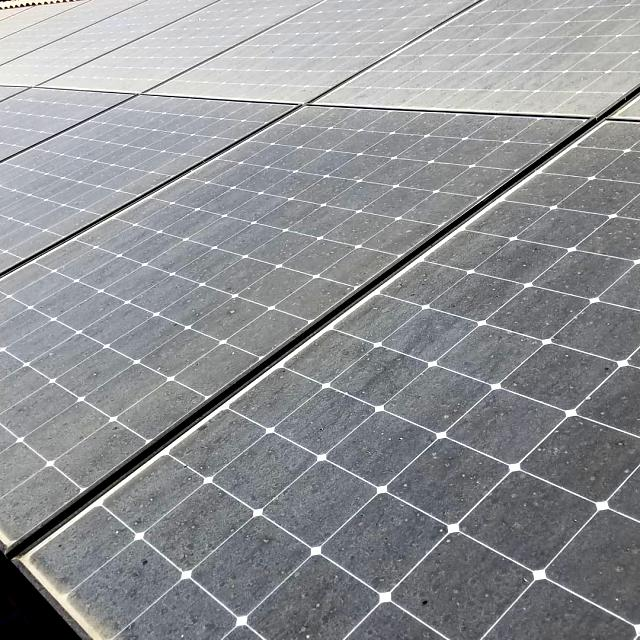dust: (436, 240, 634, 640), (154, 456, 420, 634), (132, 187, 300, 370), (412, 21, 608, 118), (306, 302, 410, 459), (13, 106, 152, 212), (337, 122, 470, 229), (0, 372, 135, 470), (0, 15, 212, 71), (246, 12, 365, 95)
